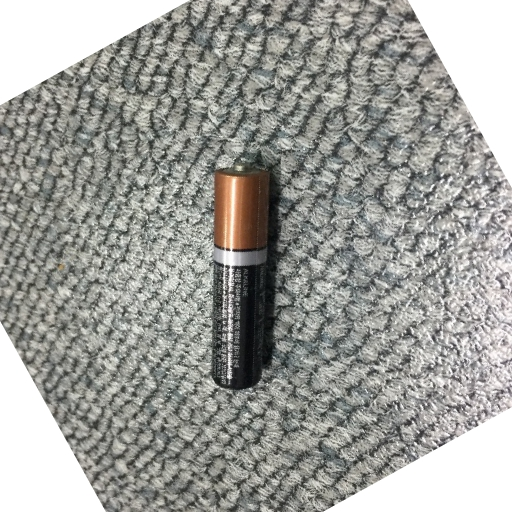Battery_0: (208, 145, 287, 398)
